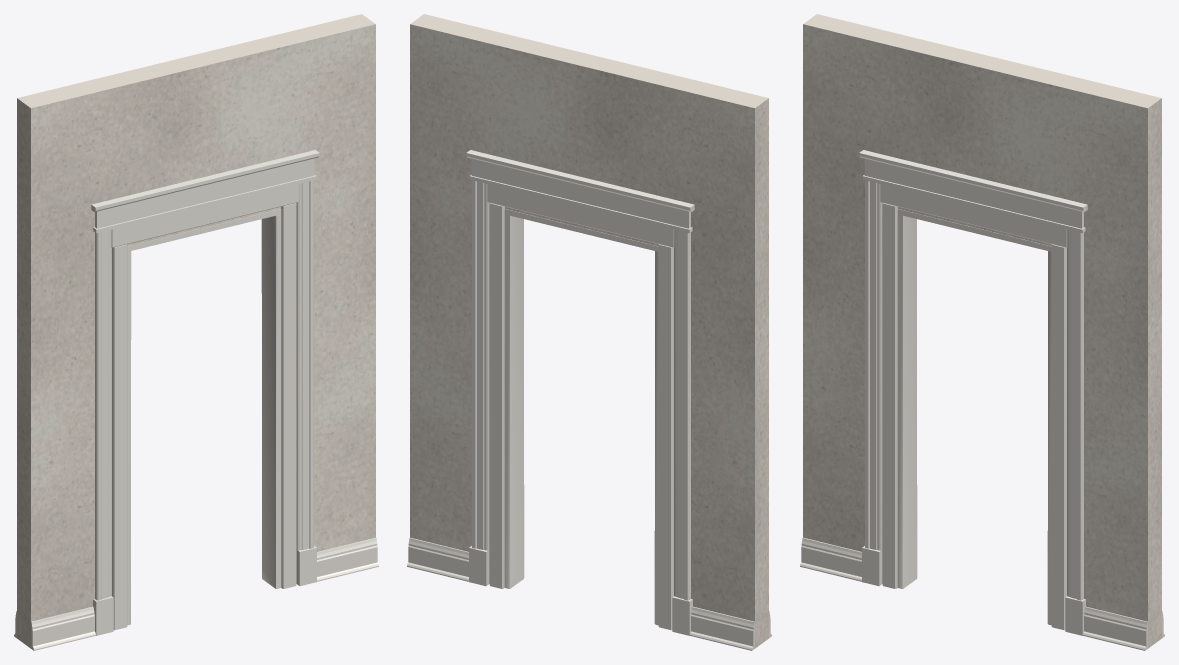
The model's file is iw_doorway.glb.
The picture shows the model from 3 angles, left to right: view 1: azimuth 30°, elevation 25°; view 2: azimuth 150°, elevation 25°; view 3: azimuth 330°, elevation 25°; orthographic projection.
Parts seen in each view (by area): view 1: iw_doorway_plaster, iw_doorway_frame, molduras; view 2: iw_doorway_plaster, iw_doorway_frame, molduras; view 3: iw_doorway_plaster, iw_doorway_frame, molduras.
Boxes of the visible parts, x1,y1,x2,y2 form: iw_doorway_plaster: [17, 14, 375, 648]; iw_doorway_frame: [111, 184, 298, 630]; molduras: [14, 150, 378, 650]; iw_doorway_plaster: [410, 14, 768, 648]; iw_doorway_frame: [487, 184, 674, 630]; molduras: [407, 150, 771, 650]; iw_doorway_plaster: [803, 14, 1161, 648]; iw_doorway_frame: [880, 184, 1067, 630]; molduras: [800, 150, 1164, 650].
Size of the model in its own units: 2 by 2.99 by 0.224.
Materials: 3 (1 with a texture image).
